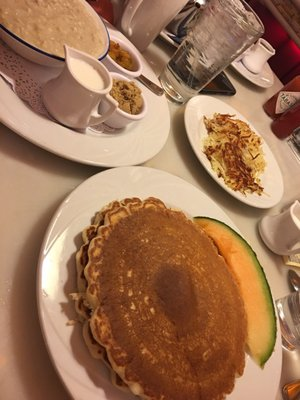pizza: (40, 43, 118, 133), (256, 198, 300, 262)
sushi: (183, 96, 283, 209), (0, 0, 111, 68)
